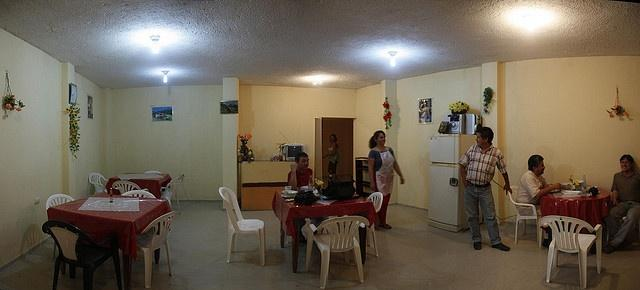Kursi: (537, 214, 601, 289), (304, 213, 364, 289), (217, 185, 267, 265)
